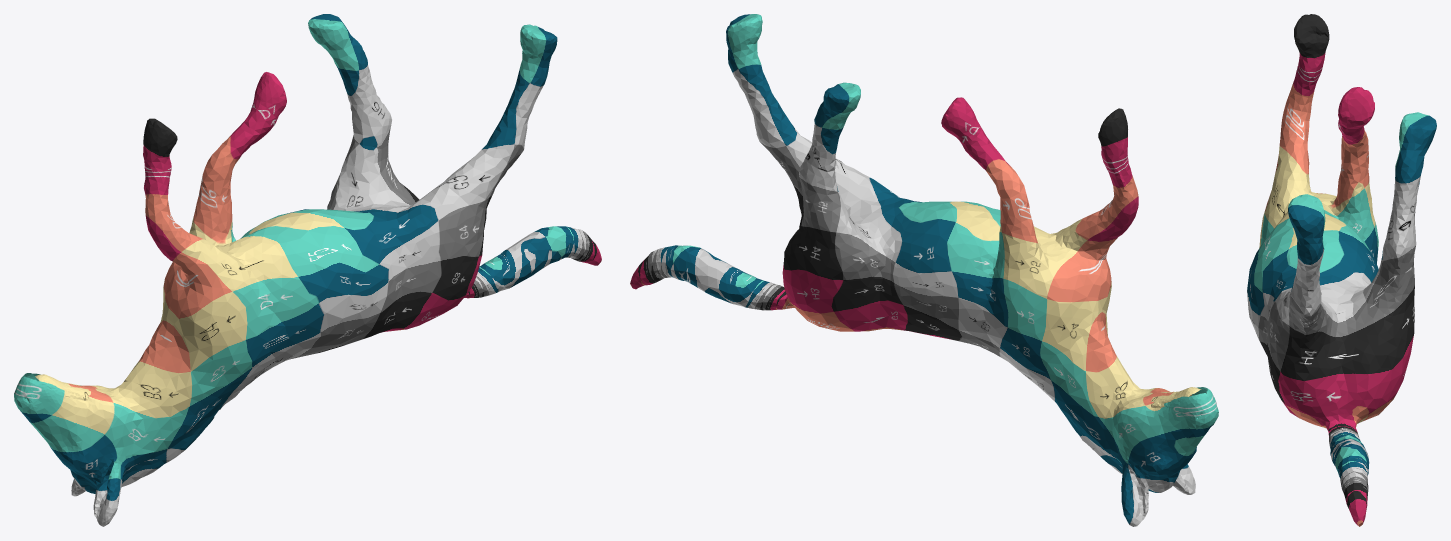
Rendered from hippo_05-horse_02.obj.
The picture shows the model from 3 angles, left to right: view 1: azimuth 30°, elevation 25°; view 2: azimuth 150°, elevation 25°; view 3: azimuth 270°, elevation 25°; orthographic projection. The views are drawn at different scales.
Visible parts, largest first — view 1: hippo_05-horse_02_export; view 2: hippo_05-horse_02_export; view 3: hippo_05-horse_02_export.
Part boxes in pixels (box(x1,y1,x2,y2)): hippo_05-horse_02_export: box(14, 14, 601, 526); hippo_05-horse_02_export: box(630, 14, 1218, 526); hippo_05-horse_02_export: box(1247, 14, 1436, 526).
Bounding box in the file's own units: 1.21 × 0.7725 × 0.3328.
